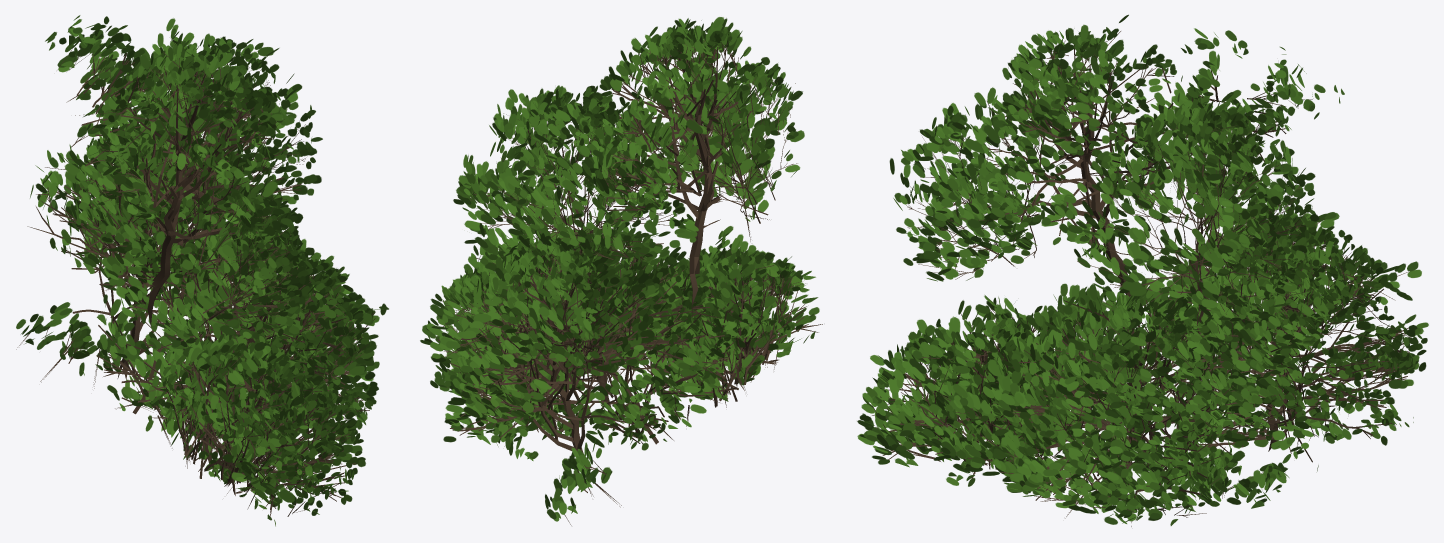
The picture shows the model from 3 angles, left to right: view 1: azimuth 30°, elevation 25°; view 2: azimuth 150°, elevation 25°; view 3: azimuth 270°, elevation 25°; orthographic projection. The views are drawn at different scales.
Parts seen in each view (by area): view 1: oak 01.001_trunk_Mat.001_0.188; view 2: oak 01.001_trunk_Mat.001_0.188; view 3: oak 01.001_trunk_Mat.001_0.188.
Part boxes in pixels (box(x1,y1,x2,y2)): oak 01.001_trunk_Mat.001_0.188: box(16, 15, 388, 526); oak 01.001_trunk_Mat.001_0.188: box(420, 17, 822, 525); oak 01.001_trunk_Mat.001_0.188: box(857, 14, 1428, 526).
Size of the model in its own units: 2.64 by 4.26 by 5.04.
2 materials, 1 textured.
